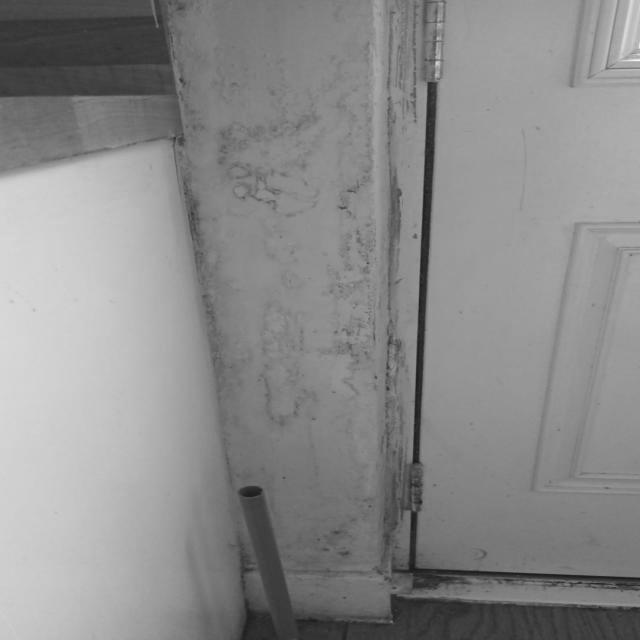stain marks: (198, 0, 380, 579), (401, 574, 640, 604)
